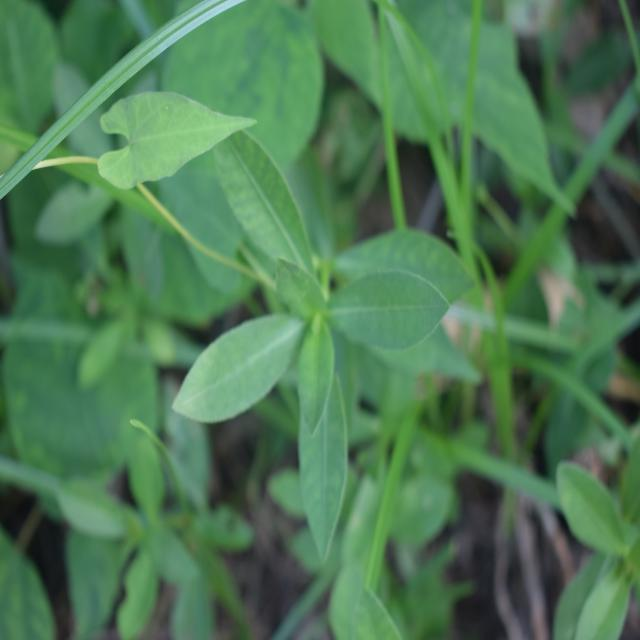Alligatorweed: (186, 137, 472, 539)
